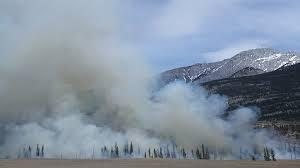yanwu: (1, 1, 295, 161)
